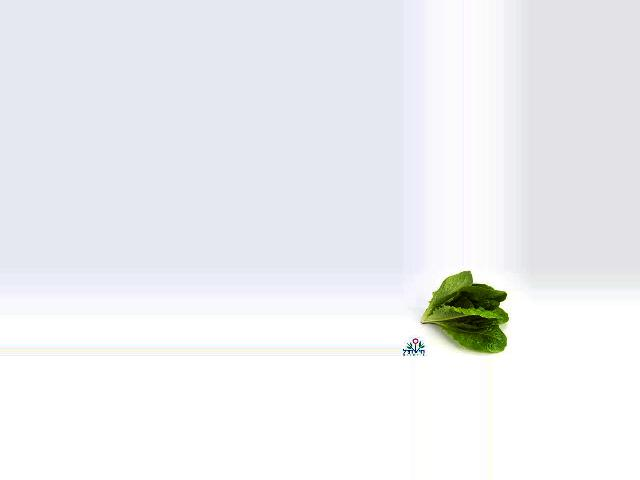lettuce: (420, 269, 511, 351)
